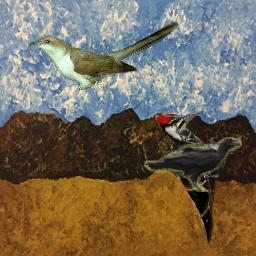Crow: (144, 137, 242, 192)
Cuckoo: (28, 21, 179, 90)
Woodpecker: (155, 109, 221, 251)
